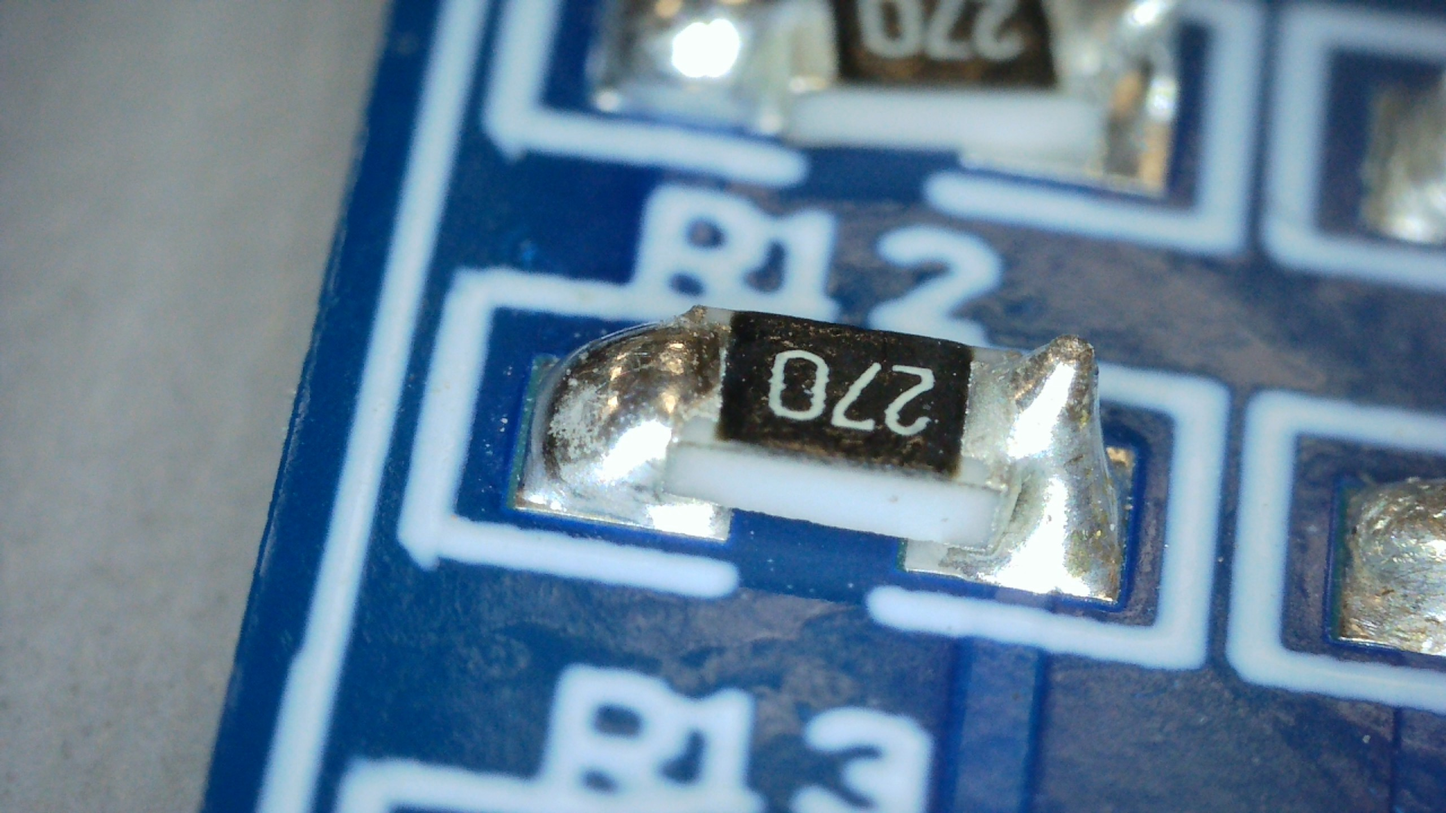NG: (944, 334, 1116, 598), (529, 305, 733, 526)
